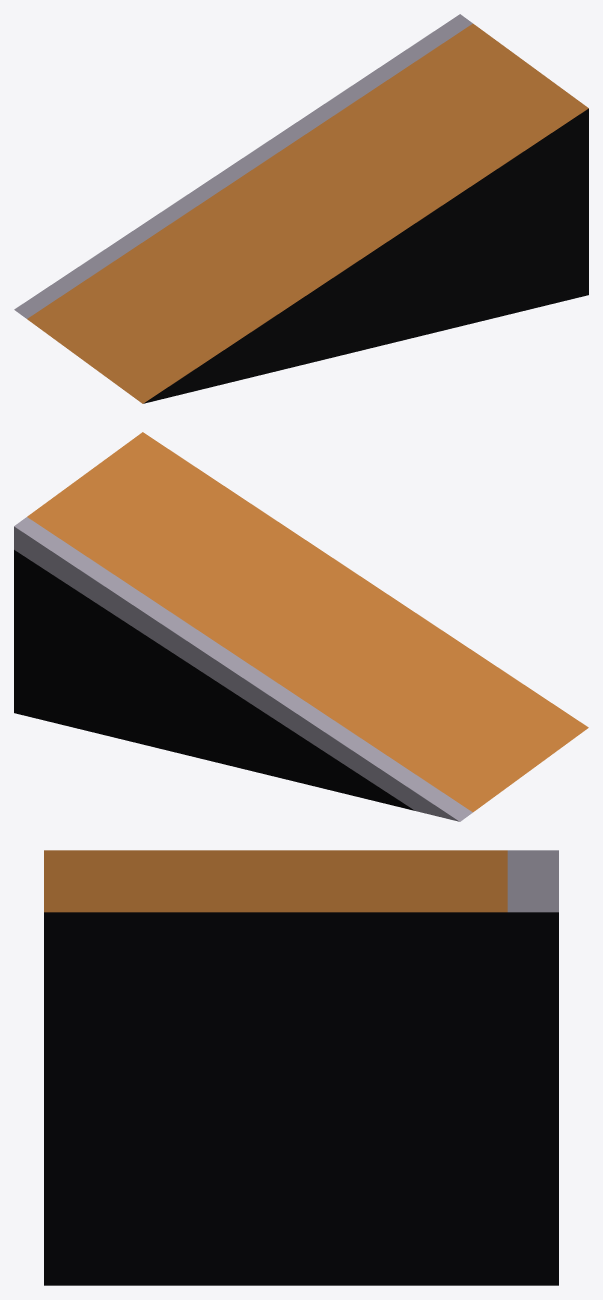
File: Ramp_Half_4_Left.obj
The picture shows the model from 3 angles, top to bottom: view 1: azimuth 30°, elevation 25°; view 2: azimuth 150°, elevation 25°; view 3: azimuth 270°, elevation 25°; orthographic projection. The views are drawn at different scales.
Visible parts, largest first — view 1: Ramp_Half_4_Left; view 2: Ramp_Half_4_Left; view 3: Ramp_Half_4_Left.
Part boxes in pixels (box(x1,y1,x2,y2)): Ramp_Half_4_Left: box(14, 14, 588, 403); Ramp_Half_4_Left: box(14, 432, 588, 821); Ramp_Half_4_Left: box(44, 850, 558, 1285).
Bounding box in the file's own units: 10 × 4 × 5.
